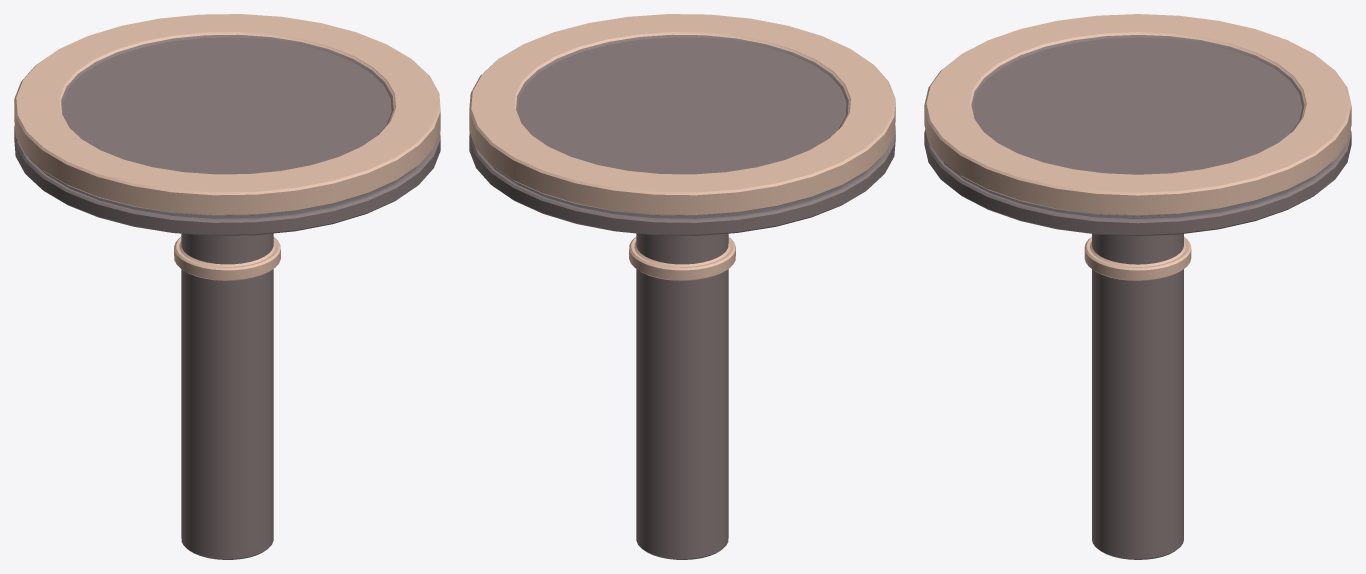
File: past_stand.glb
3 views of the same model, side by side, from view 1: azimuth 30°, elevation 25°; view 2: azimuth 150°, elevation 25°; view 3: azimuth 270°, elevation 25° (orthographic).
Parts seen in each view (by area): view 1: Cylinder.004; view 2: Cylinder.004; view 3: Cylinder.004.
Part boxes in pixels (<box>): Cylinder.004: <box>14,14,440,559</box>; Cylinder.004: <box>469,14,895,559</box>; Cylinder.004: <box>924,14,1351,559</box>.
Bounding box in the file's own units: 2.4 × 2.71 × 2.4.
